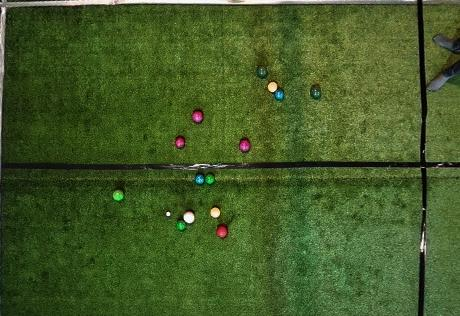blue: (194, 173, 205, 185), (274, 89, 284, 100)
green: (310, 85, 321, 99), (112, 190, 124, 201), (176, 220, 187, 231), (257, 67, 267, 78), (205, 174, 215, 184)
red: (216, 225, 228, 238), (183, 211, 195, 224), (192, 111, 204, 123), (239, 139, 250, 152), (175, 136, 185, 148)
vline: (417, 0, 459, 315), (0, 0, 12, 315)
white: (166, 211, 171, 216)
yellow: (267, 81, 278, 92), (210, 207, 220, 218)
